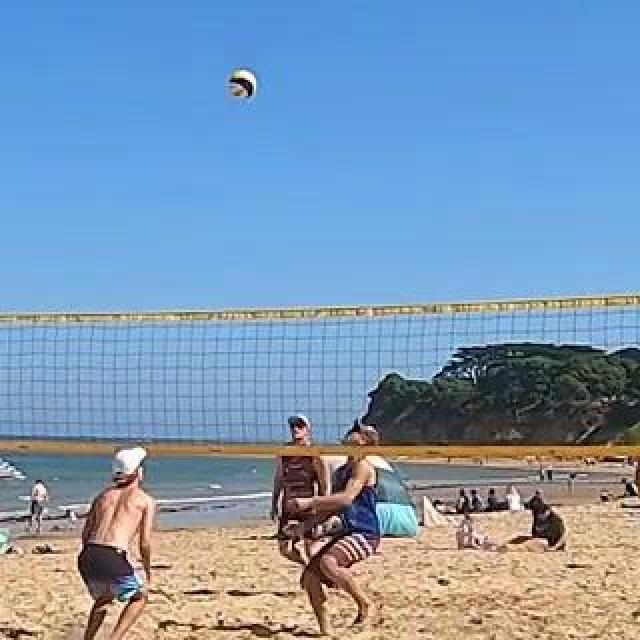volleyball: (229, 72, 257, 100)
